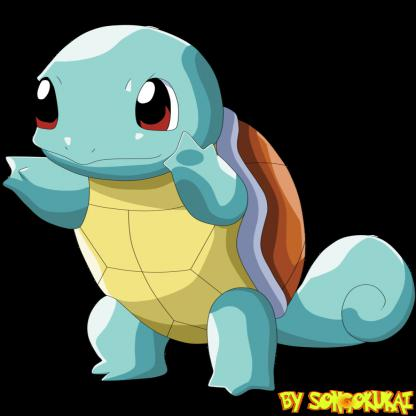Squirtle: (1, 19, 416, 400)
